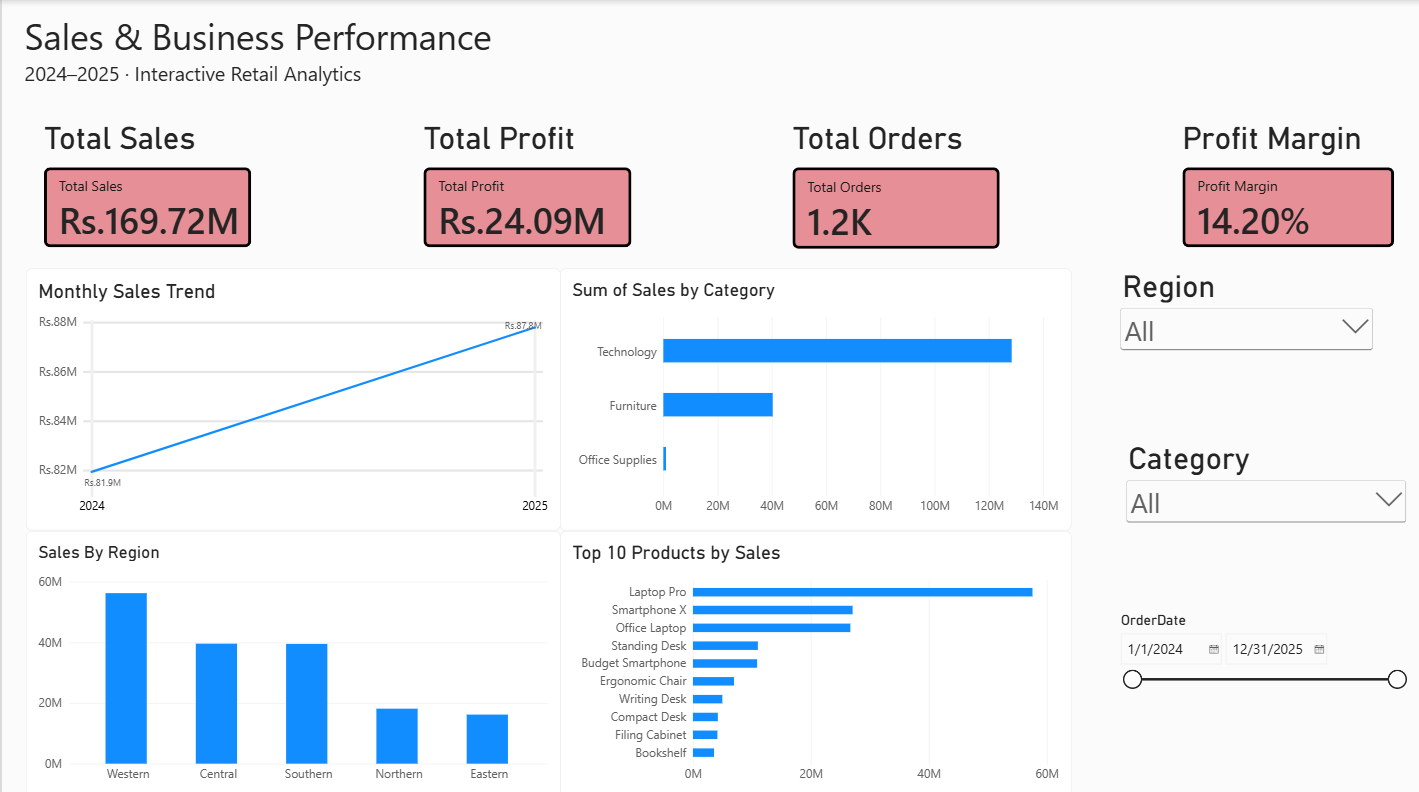

Layout of this report page (visuals, bound fields, positions):
{"tool":"powerbi","page":{"name":"Page 1","canvas":[1920,1080],"ordinal":0},"visuals":[{"type":"cardVisual","title":"Total Sales","fields":{"Data":["sales_data.Total Sales Revenue"]},"box":[56.7,161.6,280.6,172.9],"z":0},{"type":"cardVisual","title":"Total Profit","fields":{"Data":["sales_data.Total Profit"]},"box":[569.8,161.6,281.6,172.6],"z":1000},{"type":"cardVisual","title":"Profit Margin","fields":{"Data":["sales_data.Profit Margin"]},"box":[1595.9,161.6,286.3,172.9],"z":2000},{"type":"cardVisual","title":"Total Orders","fields":{"Data":["sales_data.Total Orders"]},"box":[1068.6,162.9,280,174.3],"z":3000},{"type":"lineChart","title":"Monthly Sales Trend","fields":{"Category":["sales_data.OrderDate.Variation.Date Hierarchy.Year","sales_data.OrderDate.Variation.Date Hierarchy.Month","sales_data.OrderDate Hierarchy.OrderDate"],"Y":["sales_data.Total Sales "]},"box":[31.4,362.9,722.9,354.3],"z":4000},{"type":"clusteredBarChart","title":"Sum of Sales by Category","fields":{"Category":["sales_data.Category"],"Y":["Sum(sales_data.Sales)"]},"box":[754.3,362.9,691.4,354.3],"z":5000},{"type":"clusteredColumnChart","title":"Sales By Region","fields":{"Category":["sales_data.Region"],"Y":["Sum(sales_data.Sales)"]},"box":[31.4,717.1,722.9,362.9],"z":6000},{"type":"clusteredBarChart","title":"Top 10 Products by Sales","fields":{"Category":["sales_data.ProductName"],"Y":["Sum(sales_data.Sales)"]},"box":[754.3,717.1,691.4,362.9],"z":7000},{"type":"textbox","box":[31.2,17,677.5,130.4],"z":8000},{"type":"slicer","fields":{"Values":["sales_data.Region"]},"box":[1505.7,362.9,351.4,165.7],"z":9000},{"type":"slicer","fields":{"Values":["sales_data.Category"]},"box":[1514,596,388.6,151.4],"z":10000},{"type":"slicer","fields":{"Values":["sales_data.OrderDate"]},"box":[1505,827.5,397.5,142.5],"z":11000}]}

Visuals, with their boxes in screenshot pixels (x1, y1, x2, y2), scaled from the page's 1920x1080 canvas onto the 1419x792 screenshot:
"Total Sales" cardVisual: (x1=42, y1=119, x2=249, y2=245)
"Total Profit" cardVisual: (x1=421, y1=119, x2=629, y2=245)
"Profit Margin" cardVisual: (x1=1179, y1=119, x2=1391, y2=245)
"Total Orders" cardVisual: (x1=790, y1=119, x2=997, y2=247)
"Monthly Sales Trend" lineChart: (x1=23, y1=266, x2=557, y2=526)
"Sum of Sales by Category" clusteredBarChart: (x1=557, y1=266, x2=1068, y2=526)
"Sales By Region" clusteredColumnChart: (x1=23, y1=526, x2=557, y2=791)
"Top 10 Products by Sales" clusteredBarChart: (x1=557, y1=526, x2=1068, y2=791)
textbox: (x1=23, y1=12, x2=524, y2=108)
slicer - sales_data.Region: (x1=1113, y1=266, x2=1373, y2=388)
slicer - sales_data.Category: (x1=1119, y1=437, x2=1406, y2=548)
slicer - sales_data.OrderDate: (x1=1112, y1=607, x2=1406, y2=711)
